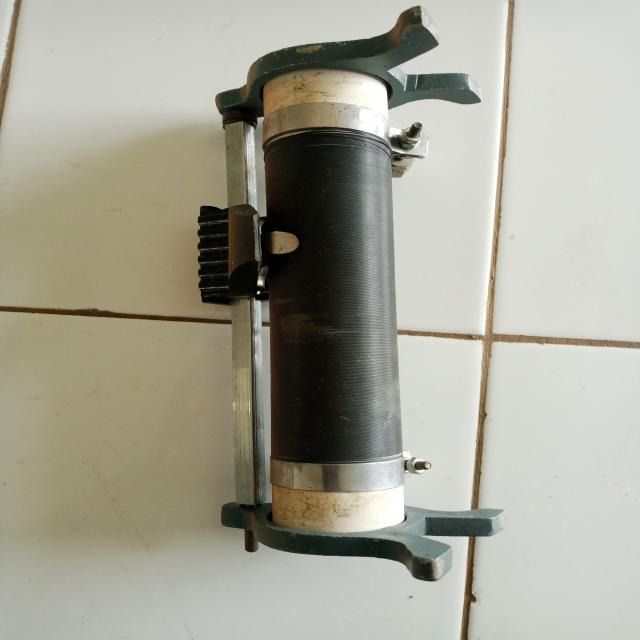Rheostat: (165, 3, 522, 595)
